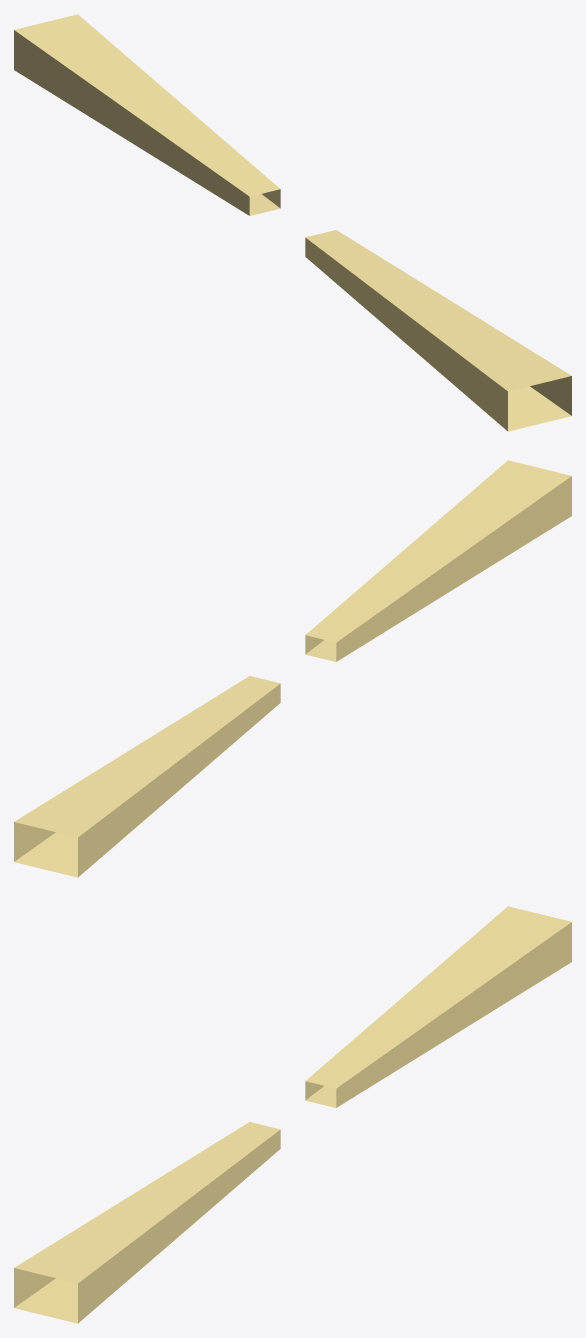
Rendered from infra_lighthouse_beams_0.glb.
3 views of the same model, one above another, from view 1: azimuth 30°, elevation 25°; view 2: azimuth 150°, elevation 25°; view 3: azimuth 330°, elevation 25° (orthographic).
Bounding box in the file's own units: 1.2 × 0.7174 × 16.
